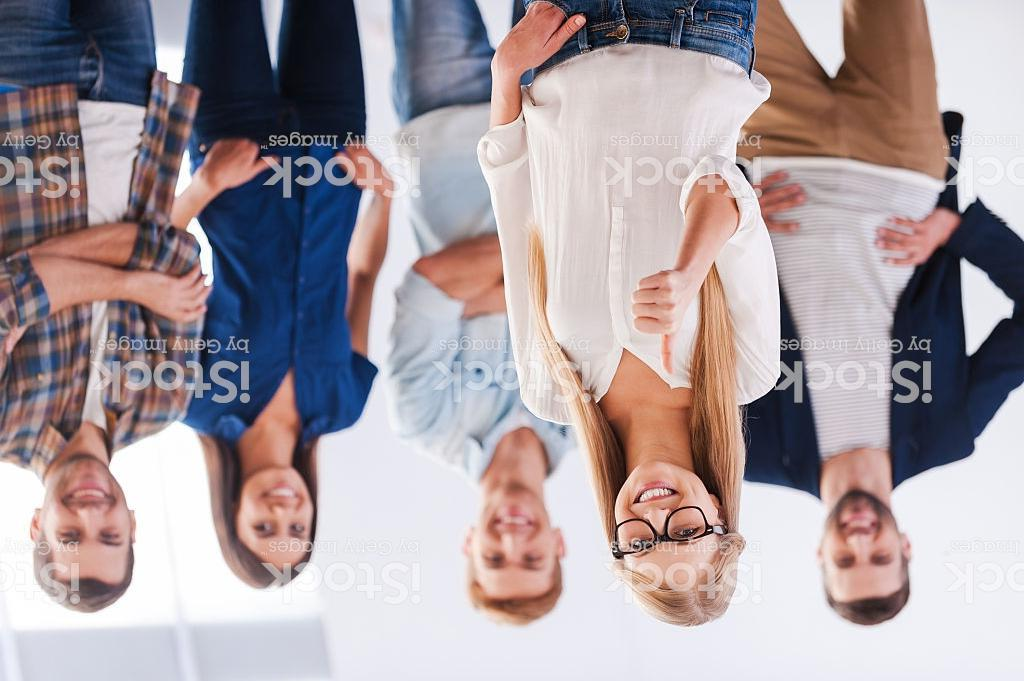thumbsdown: (629, 267, 690, 378)
